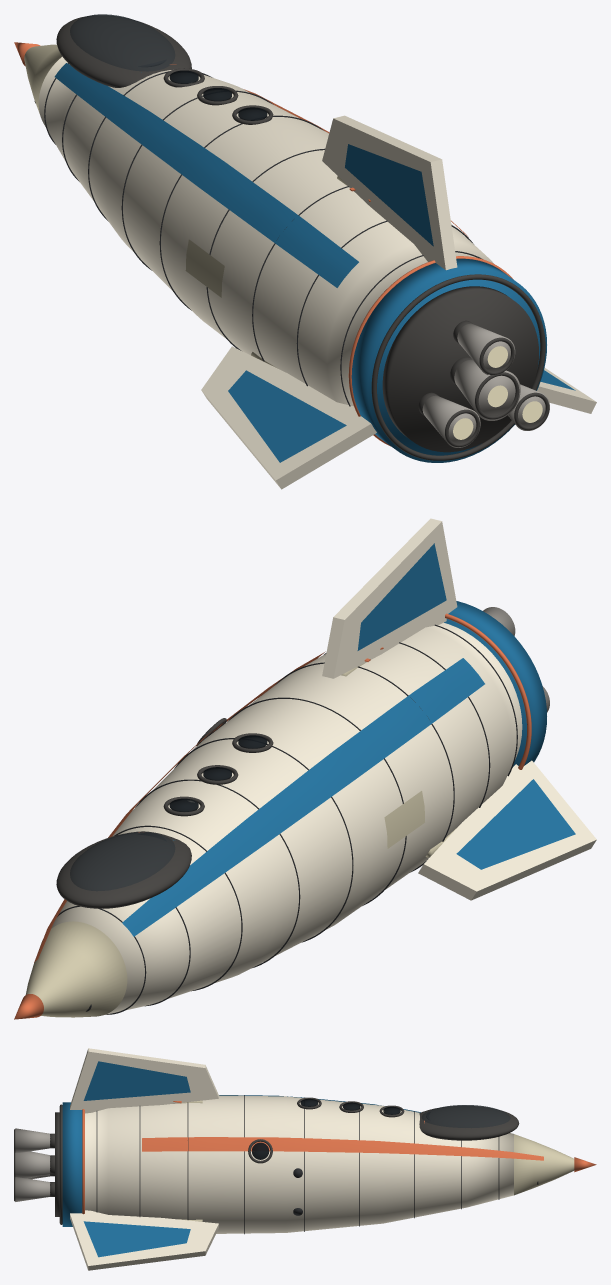
File: Ship_LunarCourier_7.glb
The picture shows the model from 3 angles, top to bottom: view 1: azimuth 30°, elevation 25°; view 2: azimuth 150°, elevation 25°; view 3: azimuth 270°, elevation 25°; orthographic projection. The views are drawn at different scales.
Parts seen in each view (by area): view 1: Fuselage_TaperedCreamBody, EngineDeck_AftDarkMountPlate, PaintStripe_Cobalt_LeftSweptSpear, AftCollar_CobaltEngineBand, TailFin_LeftLower_CreamAerofoil, TailFin_Dorsal_CreamAerofoil, CanopyFrame_DorsalDarkInset, TailFinPanel_LeftLower_CobaltOuterSideB, CanopyGlass_DorsalSmokedDome, TailFinPanel_Dorsal_CobaltOuterSideA, AftTrimRing_DarkRear, EngineBell_Center_BurnishedNozzle (+8 smaller); view 2: Fuselage_TaperedCreamBody, PaintStripe_Cobalt_LeftSweptSpear, TailFin_LeftLower_CreamAerofoil, CanopyFrame_DorsalDarkInset, NoseCone_CreamNeedleSection, TailFin_Dorsal_CreamAerofoil, TailFinPanel_LeftLower_CobaltOuterSideB, CanopyGlass_DorsalSmokedDome, AftCollar_CobaltEngineBand, TailFinPanel_Dorsal_CobaltOuterSideA, PaintPanel_WarmIvory_ServiceHatchLeft, AftTrimRing_RustOrangeForward (+1 smaller); view 3: Fuselage_TaperedCreamBody, PaintStripe_RustOrange_RightLongSpear, TailFin_Dorsal_CreamAerofoil, TailFin_RightLower_CreamAerofoil, CanopyFrame_DorsalDarkInset, TailFinPanel_Dorsal_CobaltOuterSideB, TailFinPanel_RightLower_CobaltOuterSideA, AftCollar_CobaltEngineBand, NoseCone_CreamNeedleSection, CanopyGlass_DorsalSmokedDome, EngineBell_Center_BurnishedNozzle, EngineBell_Upper_BurnishedNozzle (+4 smaller).
Part boxes in pixels (box(x1,y1,x2,y2)): Fuselage_TaperedCreamBody: box(38, 56, 493, 406); EngineDeck_AftDarkMountPlate: box(382, 286, 538, 452); PaintStripe_Cobalt_LeftSweptSpear: box(54, 63, 358, 287); AftCollar_CobaltEngineBand: box(351, 258, 546, 462); TailFin_LeftLower_CreamAerofoil: box(201, 346, 376, 489); TailFin_Dorsal_CreamAerofoil: box(322, 115, 457, 270); CanopyFrame_DorsalDarkInset: box(56, 15, 191, 87); TailFinPanel_LeftLower_CobaltOuterSideB: box(228, 370, 346, 462); CanopyGlass_DorsalSmokedDome: box(70, 14, 175, 71); TailFinPanel_Dorsal_CobaltOuterSideA: box(345, 144, 433, 246); AftTrimRing_DarkRear: box(371, 274, 545, 460); EngineBell_Center_BurnishedNozzle: box(454, 359, 520, 420); Fuselage_TaperedCreamBody: box(51, 622, 522, 1014); PaintStripe_Cobalt_LeftSweptSpear: box(122, 658, 484, 936); TailFin_LeftLower_CreamAerofoil: box(418, 760, 596, 900); CanopyFrame_DorsalDarkInset: box(56, 831, 191, 908); NoseCone_CreamNeedleSection: box(25, 921, 127, 1017); TailFin_Dorsal_CreamAerofoil: box(322, 518, 457, 678); TailFinPanel_LeftLower_CobaltOuterSideB: box(456, 779, 575, 869); CanopyGlass_DorsalSmokedDome: box(70, 832, 175, 891); AftCollar_CobaltEngineBand: box(444, 601, 546, 767); TailFinPanel_Dorsal_CobaltOuterSideA: box(357, 543, 446, 650); PaintPanel_WarmIvory_ServiceHatchLeft: box(384, 791, 424, 848); AftTrimRing_RustOrangeForward: box(445, 613, 531, 769); Fuselage_TaperedCreamBody: box(85, 1095, 513, 1233); PaintStripe_RustOrange_RightLongSpear: box(142, 1137, 543, 1160); TailFin_Dorsal_CreamAerofoil: box(70, 1048, 218, 1113); TailFin_RightLower_CreamAerofoil: box(70, 1210, 218, 1270); CanopyFrame_DorsalDarkInset: box(419, 1106, 519, 1140); TailFinPanel_Dorsal_CobaltOuterSideB: box(83, 1061, 190, 1100); TailFinPanel_RightLower_CobaltOuterSideA: box(83, 1221, 190, 1257); AftCollar_CobaltEngineBand: box(62, 1102, 82, 1226); NoseCone_CreamNeedleSection: box(514, 1134, 574, 1195); CanopyGlass_DorsalSmokedDome: box(421, 1105, 510, 1127); EngineBell_Center_BurnishedNozzle: box(15, 1151, 50, 1178); EngineBell_Upper_BurnishedNozzle: box(15, 1128, 50, 1153).
Size of the model in its own units: 3.33 by 2.94 by 8.7.
